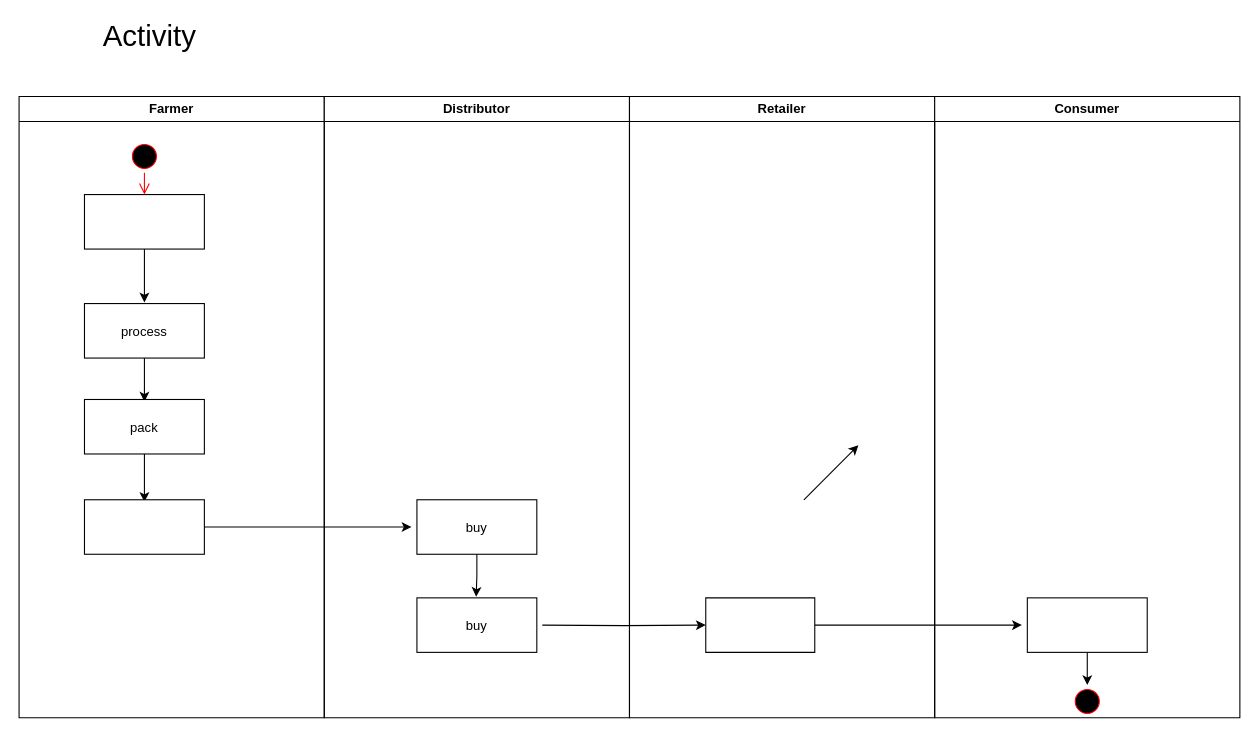
Some shapes in this 1259 by 737 pixel diagram are drawn without their labels. Each missing label, with the centre of its shape:
harvest: [143,221]
purchase: [1086,624]
receive: [760,624]
sell: [143,526]
